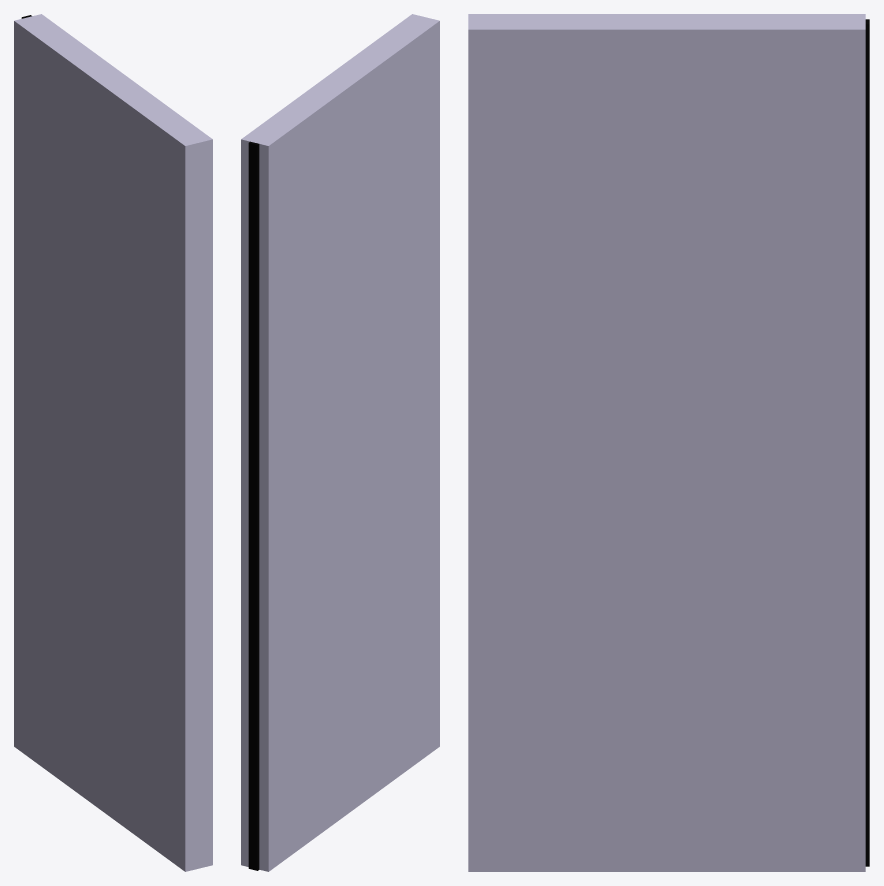
Rendered from ElevatorDoor.fbx.
3 views of the same model, side by side, from view 1: azimuth 30°, elevation 25°; view 2: azimuth 150°, elevation 25°; view 3: azimuth 270°, elevation 25° (orthographic). The views are drawn at different scales.
Visible parts, largest first — view 1: EllevatorDoor.L; view 2: EllevatorDoor.L; view 3: EllevatorDoor.L.
Part boxes in pixels (bbox=[...]): EllevatorDoor.L: bbox=[14, 14, 212, 871]; EllevatorDoor.L: bbox=[241, 14, 439, 871]; EllevatorDoor.L: bbox=[468, 14, 869, 871].
Size of the model in its own units: 12.67 by 318 by 137.
